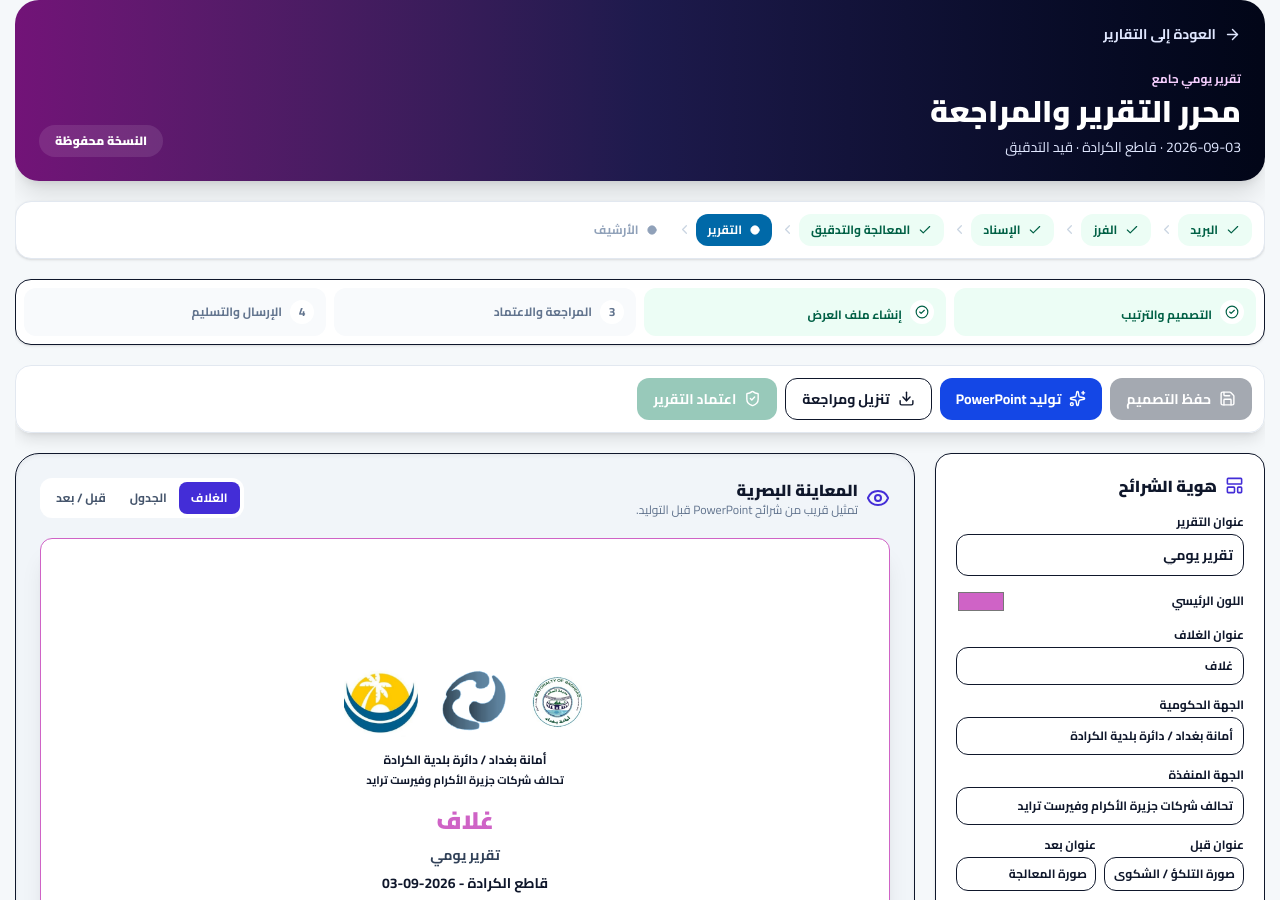
Test: محرر التقرير — ReportEditorPage › يولّد في حالة قيد التدقيق ويمنع الإرسال قبل الاعتماد
Expected: the text "2026-09-03 · قاطع الكرادة · قيد التدقيق" is shown, [1005,134,1241,160]
Expected: the button "حفظ التصميم" is disabled, [1110,378,1252,420]
What coordinates should you click on to do the following:
click the button "توليد PowerPoint"
I would click on:
 (1021, 398)
Its box is [940,378,1102,420].
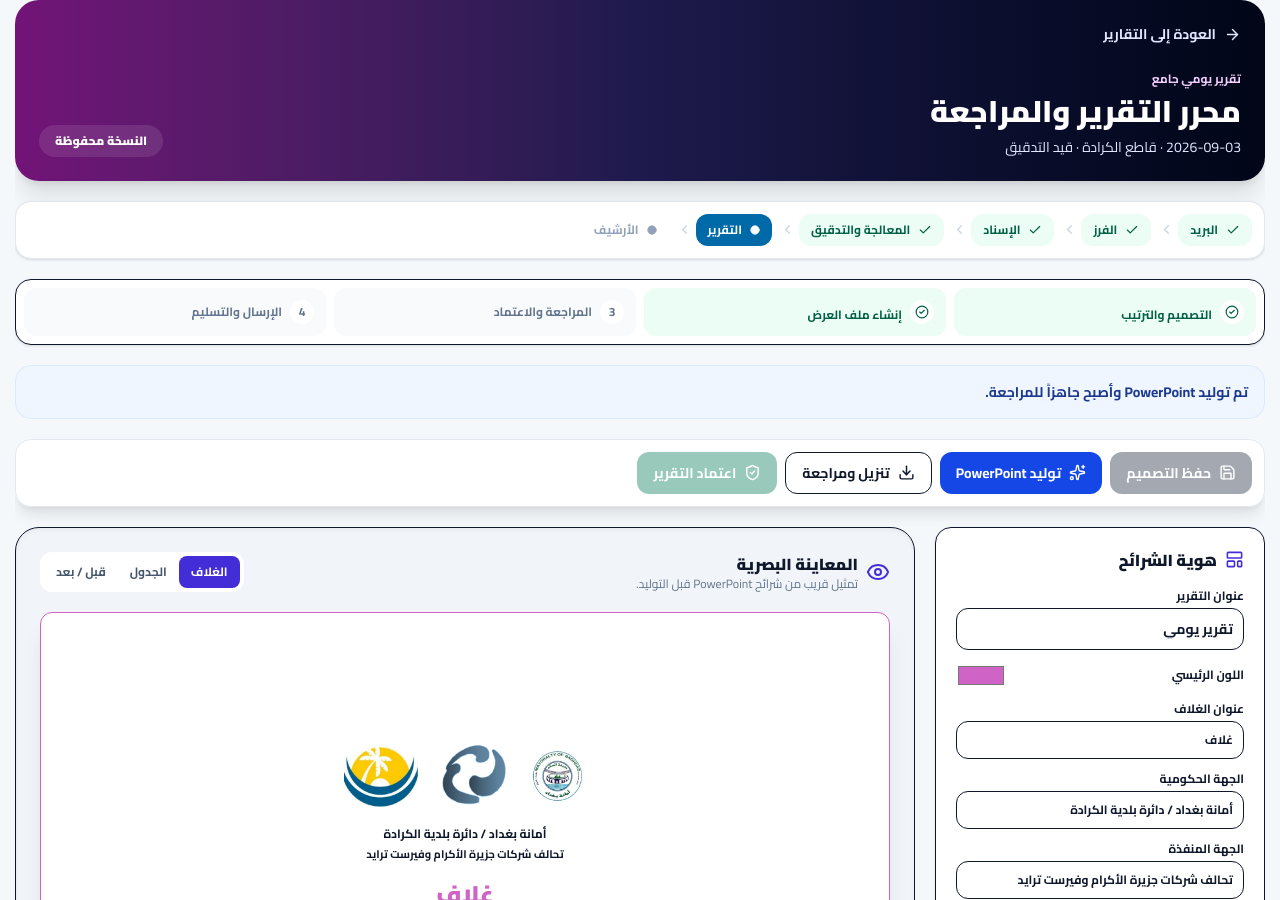
Result: the text "تم توليد PowerPoint وأصبح جاهزاً للمراجعة." is shown at [15,364,1265,418]
